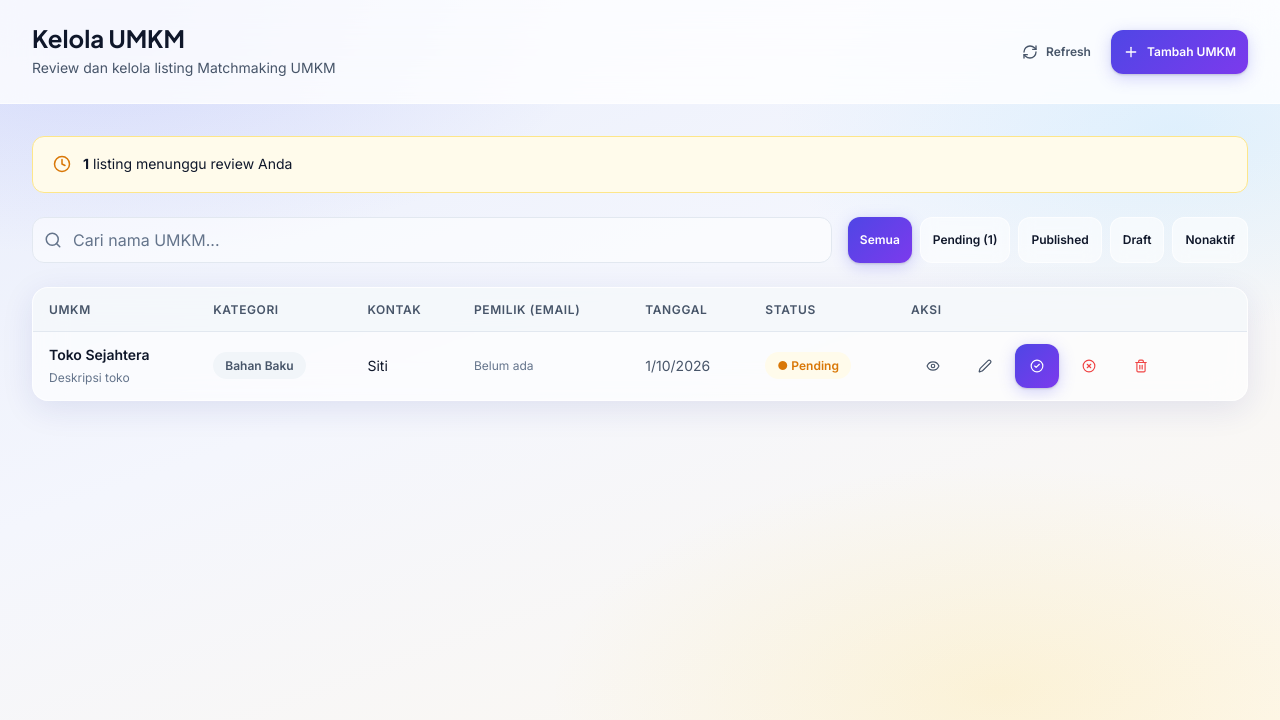
Scenario: Admin UMKM: mutasi dicek (tidak ada sukses palsu) › hapus listing › berhasil -> baris hilang + toast sukses
The image size is (1280, 720).
Expected: the text "Toko Sejahtera" is shown, [49,346,150,363]
Click the button titled "Hapus".
click(1141, 366)  # box [1119,344,1163,388]
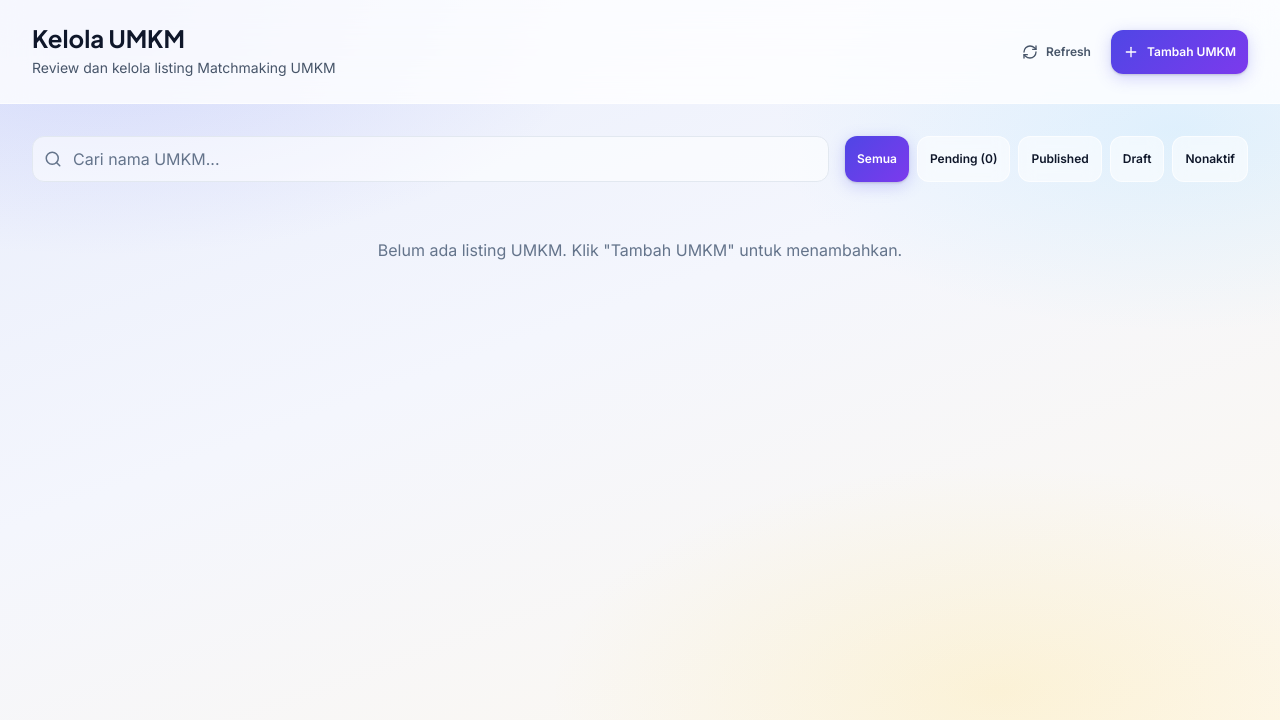
Result: the text "Toko Sejahtera" is gone
